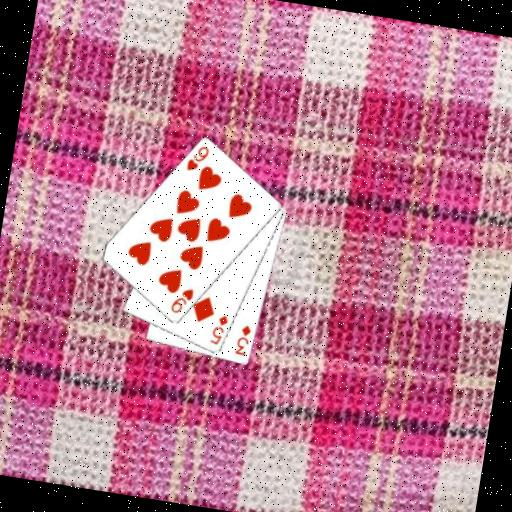3D: (232, 320, 254, 358)
5D: (206, 310, 230, 348)
9H: (166, 283, 196, 318), (182, 140, 211, 175)
